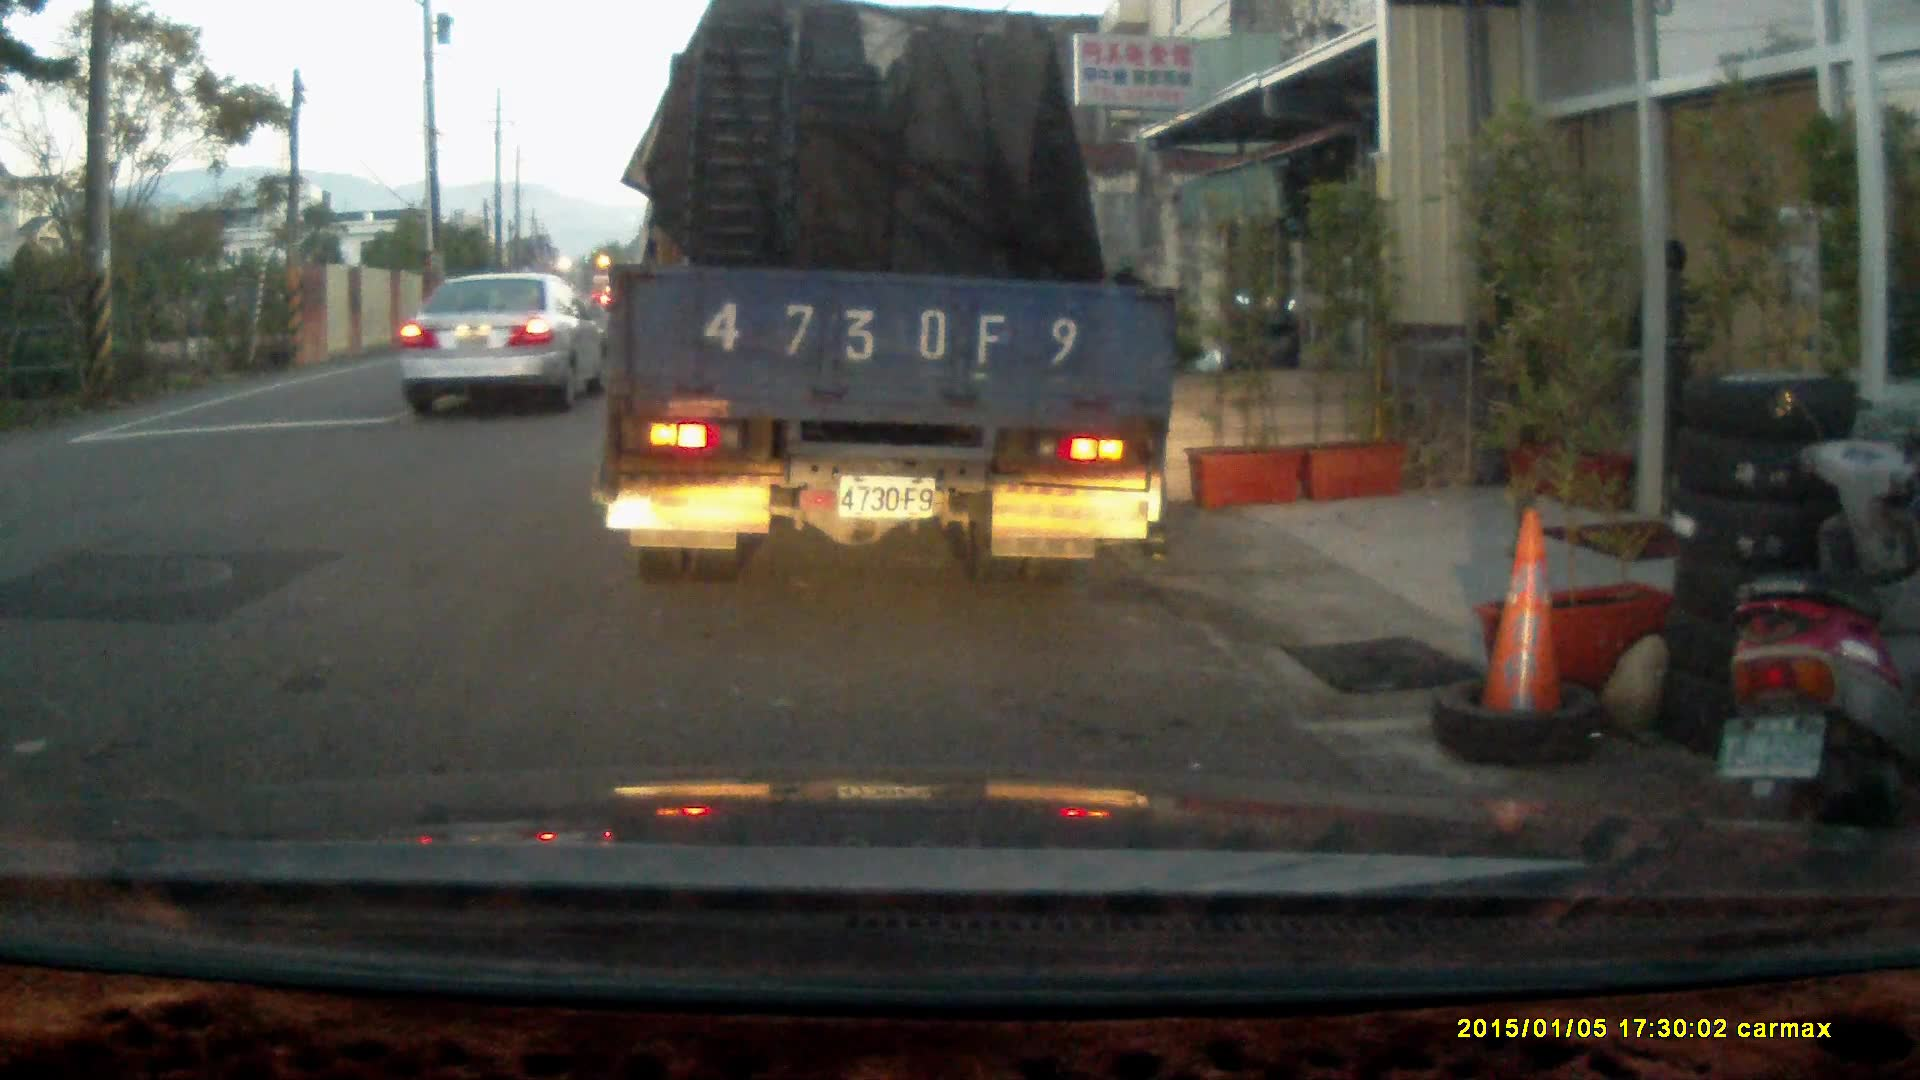pedestrian: (1625, 231, 1710, 479)
vehicle: (605, 23, 1188, 572), (397, 268, 611, 412)
